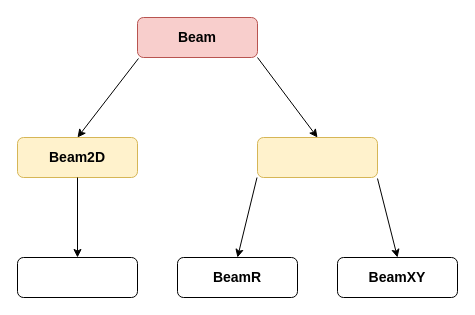
This 475x315 diagram has some shape labels left out. The shapes that lost their labels are listed below. From the top down, each one's centre as x and y in pixels, then its label:
At point (317, 157): "Beam3D".
At point (77, 277): "BeamX".
